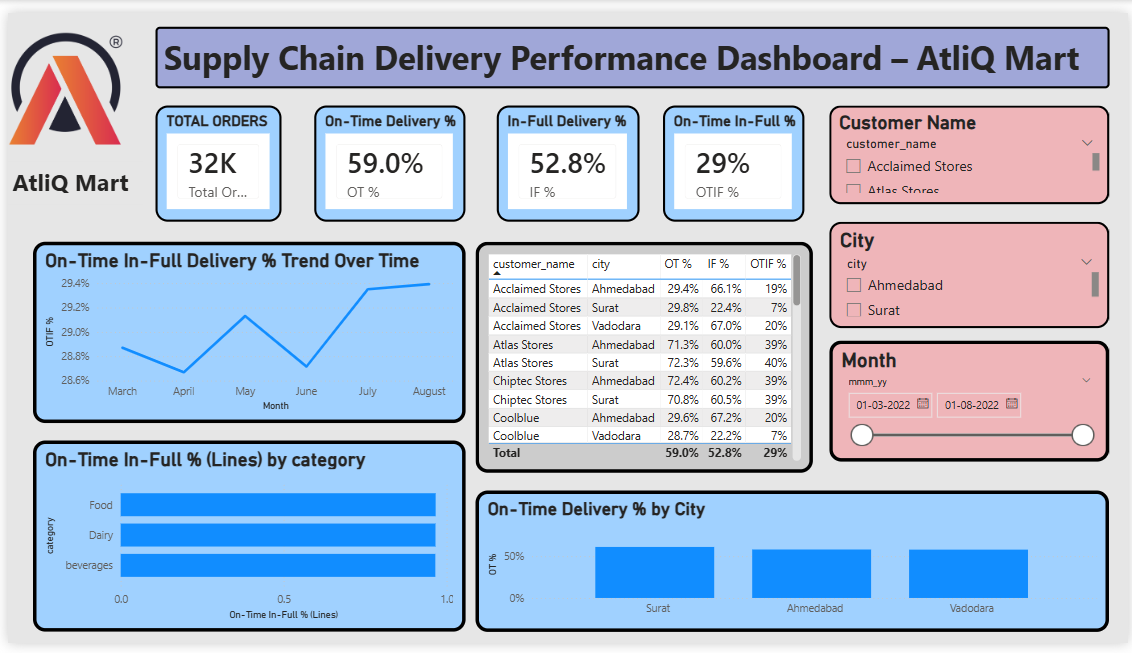

What the dashboard file says about the page in this screenshot:
{"tool":"powerbi","page":{"name":"Dashboard","canvas":[1280,720],"ordinal":0},"visuals":[{"type":"cardVisual","title":"TOTAL ORDERS","fields":{"Data":["fact_orders_aggregate.Total Orders"]},"box":[168.6,105.7,144.3,132.9],"z":0},{"type":"cardVisual","title":"On-Time Delivery %","fields":{"Data":["fact_orders_aggregate.OT %"]},"box":[350,105.7,172.9,132.9],"z":1000},{"type":"cardVisual","title":"In-Full Delivery %","fields":{"Data":["fact_orders_aggregate.IF %"]},"box":[558.6,105.7,162.9,132.9],"z":2000},{"type":"cardVisual","title":"On-Time In-Full %","fields":{"Data":["fact_orders_aggregate.OTIF %"]},"box":[748.6,105.7,161.4,132.9],"z":3000},{"type":"lineChart","title":"On-Time In-Full Delivery % Trend Over Time","fields":{"Category":["dim_date.mmm_yy.Variation.Date Hierarchy.Year","dim_date.mmm_yy.Variation.Date Hierarchy.Quarter","dim_date.mmm_yy.Variation.Date Hierarchy.Month","dim_date.mmm_yy.Variation.Date Hierarchy.Day"],"Y":["fact_orders_aggregate.OTIF %"]},"box":[28.6,261.4,494.3,207.1],"z":4000},{"type":"tableEx","fields":{"Values":["dim_customers.customer_name","dim_customers.city","fact_orders_aggregate.OT %","fact_orders_aggregate.IF %","fact_orders_aggregate.OTIF %"]},"box":[534.3,261.4,385.7,264.3],"z":5000},{"type":"clusteredBarChart","fields":{"Y":["dim_customers.On-Time In-Full % (Lines)"],"Category":["dim_products.category"]},"box":[28.6,488.6,494.3,218.6],"z":6000},{"type":"slicer","title":"Customer Name","fields":{"Values":["dim_customers.customer_name"]},"box":[938.6,105.7,320,112.9],"z":7000},{"type":"slicer","title":"City","fields":{"Values":["dim_customers.city"]},"box":[938.6,238.6,320,121.4],"z":8000},{"type":"slicer","title":"Month","fields":{"Values":["dim_date.mmm_yy"]},"box":[938.6,374.3,320,138.6],"z":9000},{"type":"clusteredColumnChart","title":"On-Time Delivery % by City","fields":{"Y":["fact_orders_aggregate.OT %"],"Category":["dim_customers.city"]},"box":[534.3,545.7,724.3,161.4],"z":10000},{"type":"textbox","box":[168.6,15.7,1090,70],"z":11000},{"type":"image","box":[0,15.7,134.3,140],"z":12000},{"type":"textbox","box":[0,170,154.3,48.6],"z":13000}]}

Visuals, with their boxes in screenshot pixels (x1, y1, x2, y2), scaled from the page's 1280x720 canvas onto the 1132x653 screenshot:
"TOTAL ORDERS" cardVisual: <region>149, 96, 277, 216</region>
"On-Time Delivery %" cardVisual: <region>310, 96, 462, 216</region>
"In-Full Delivery %" cardVisual: <region>494, 96, 638, 216</region>
"On-Time In-Full %" cardVisual: <region>662, 96, 805, 216</region>
"On-Time In-Full Delivery % Trend Over Time" lineChart: <region>25, 237, 462, 425</region>
tableEx - dim_customers.customer_name x dim_customers.city: <region>473, 237, 814, 477</region>
clusteredBarChart - dim_customers.On-Time In-Full % (Lines) x dim_products.category: <region>25, 443, 462, 641</region>
"Customer Name" slicer: <region>830, 96, 1113, 198</region>
"City" slicer: <region>830, 216, 1113, 326</region>
"Month" slicer: <region>830, 339, 1113, 465</region>
"On-Time Delivery % by City" clusteredColumnChart: <region>473, 495, 1113, 641</region>
textbox: <region>149, 14, 1113, 78</region>
image: <region>0, 14, 119, 141</region>
textbox: <region>0, 154, 136, 198</region>
